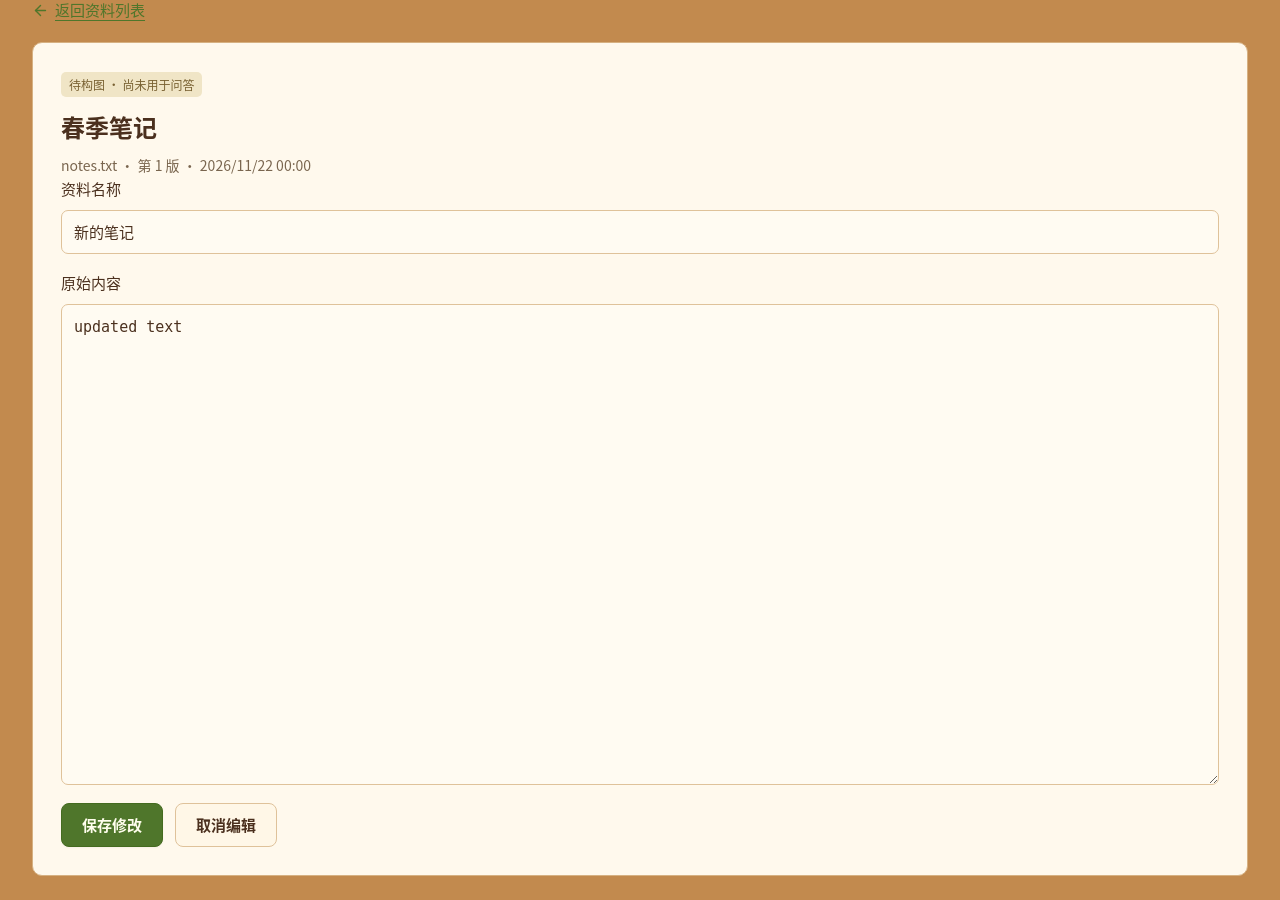
Test: uploads, opens, edits, searches and deletes a source through the API
Earlier steps of the test are not shown.
(page scrolled)
Click the button "保存修改" at point(112, 825), box [61,803,163,847]
(page scrolled)
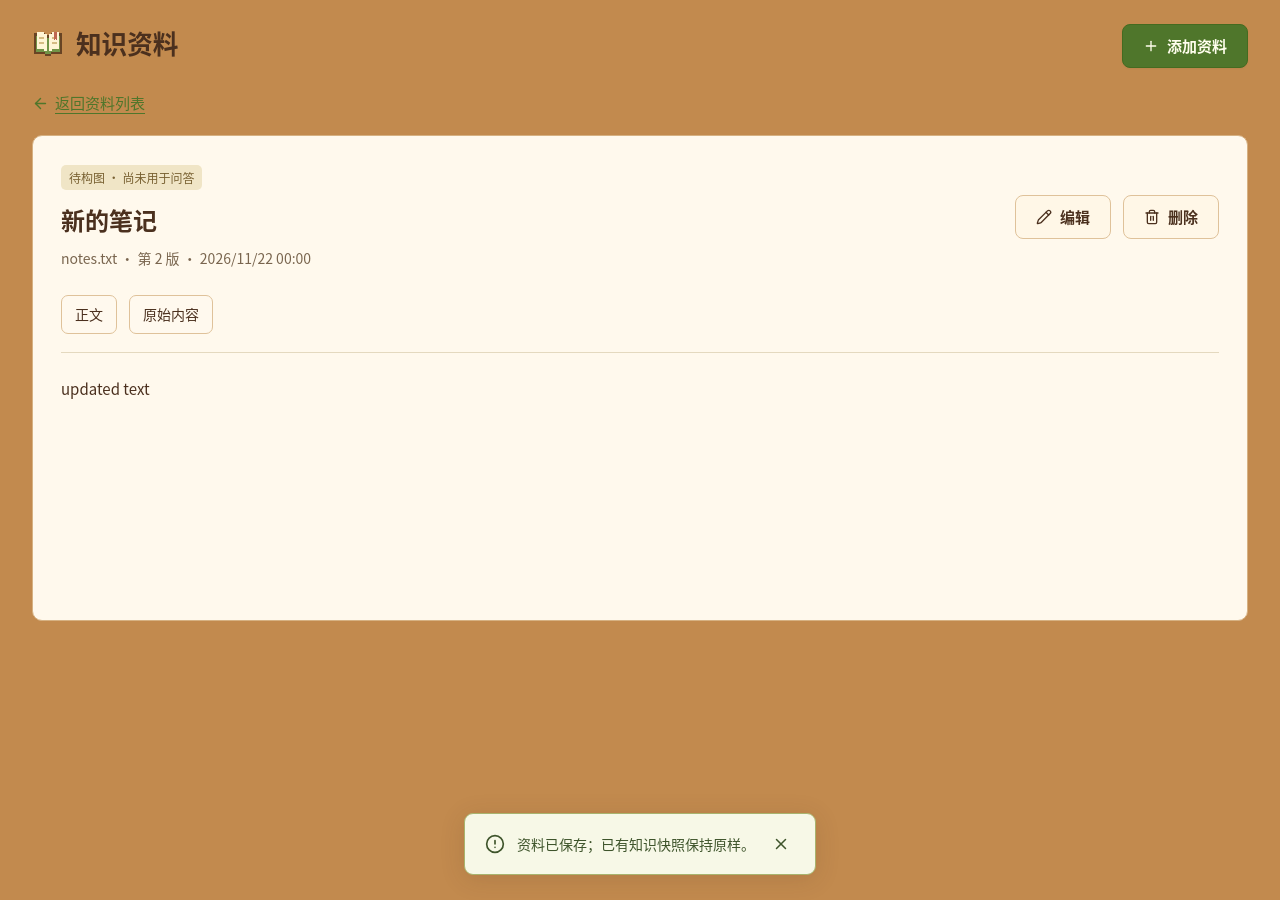
Result: the heading "新的笔记" is shown at [61,202,157,236]
Click the link "返回资料列表" at point(88, 103), box [32,92,145,114]
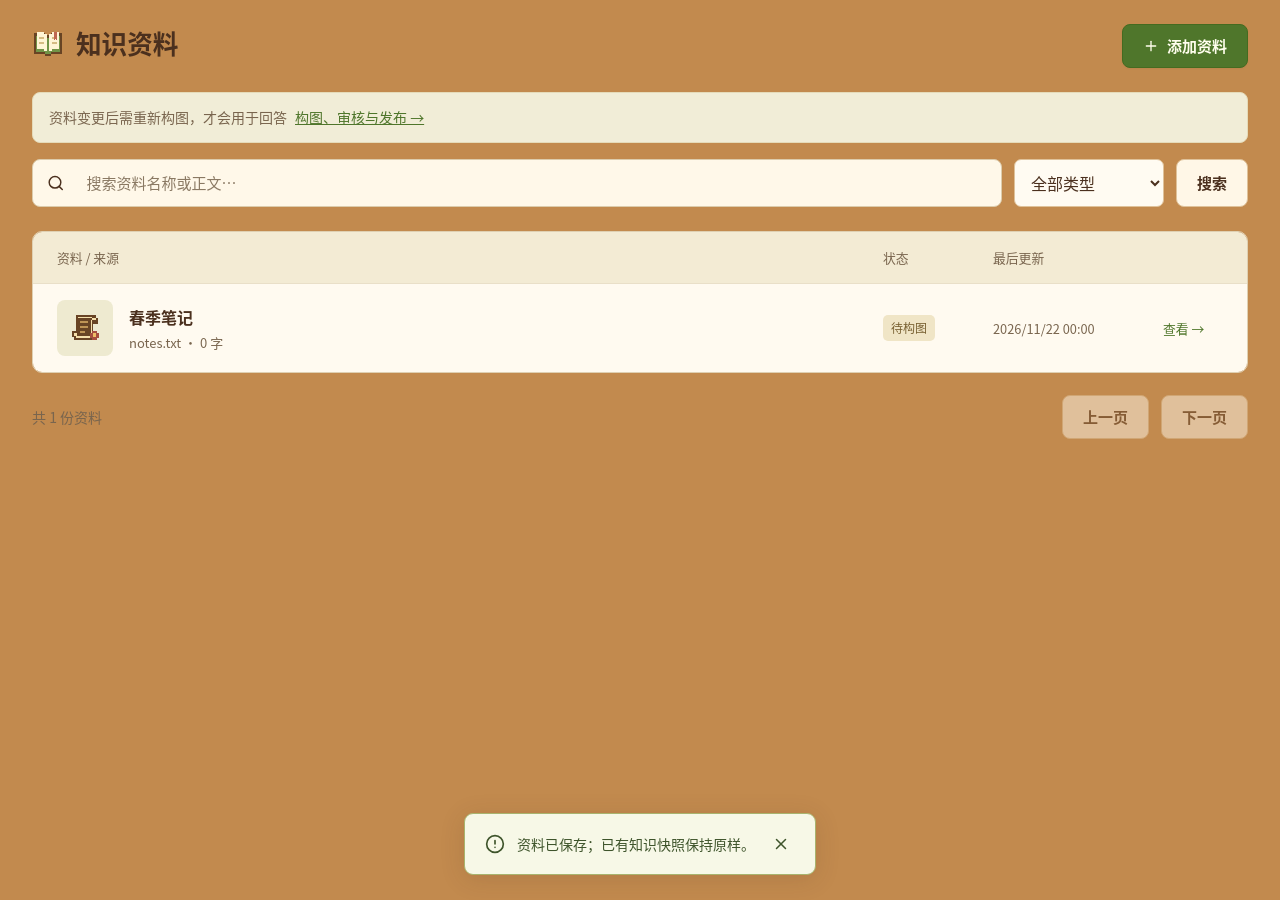
Type "updated" into the field named "搜索知识资料" at point(531, 183), box [74,162,987,204]
Click the button "搜索" at point(1212, 183), box [1176,159,1248,207]
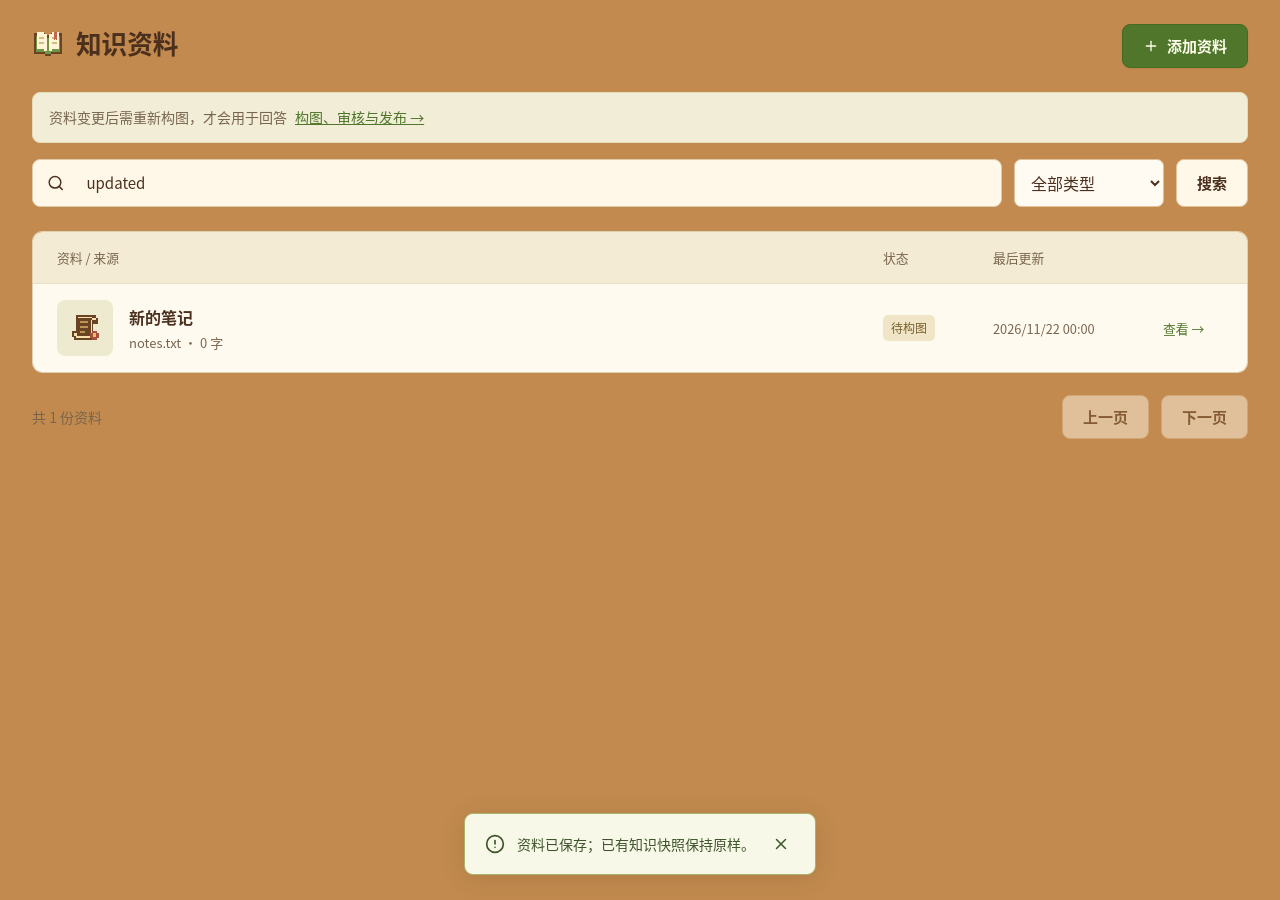
Click the link "新的笔记 notes.txt · 0 字 待构图 2026/11/22 00:00 查看 →" at point(85, 328), box [33,283,1247,372]
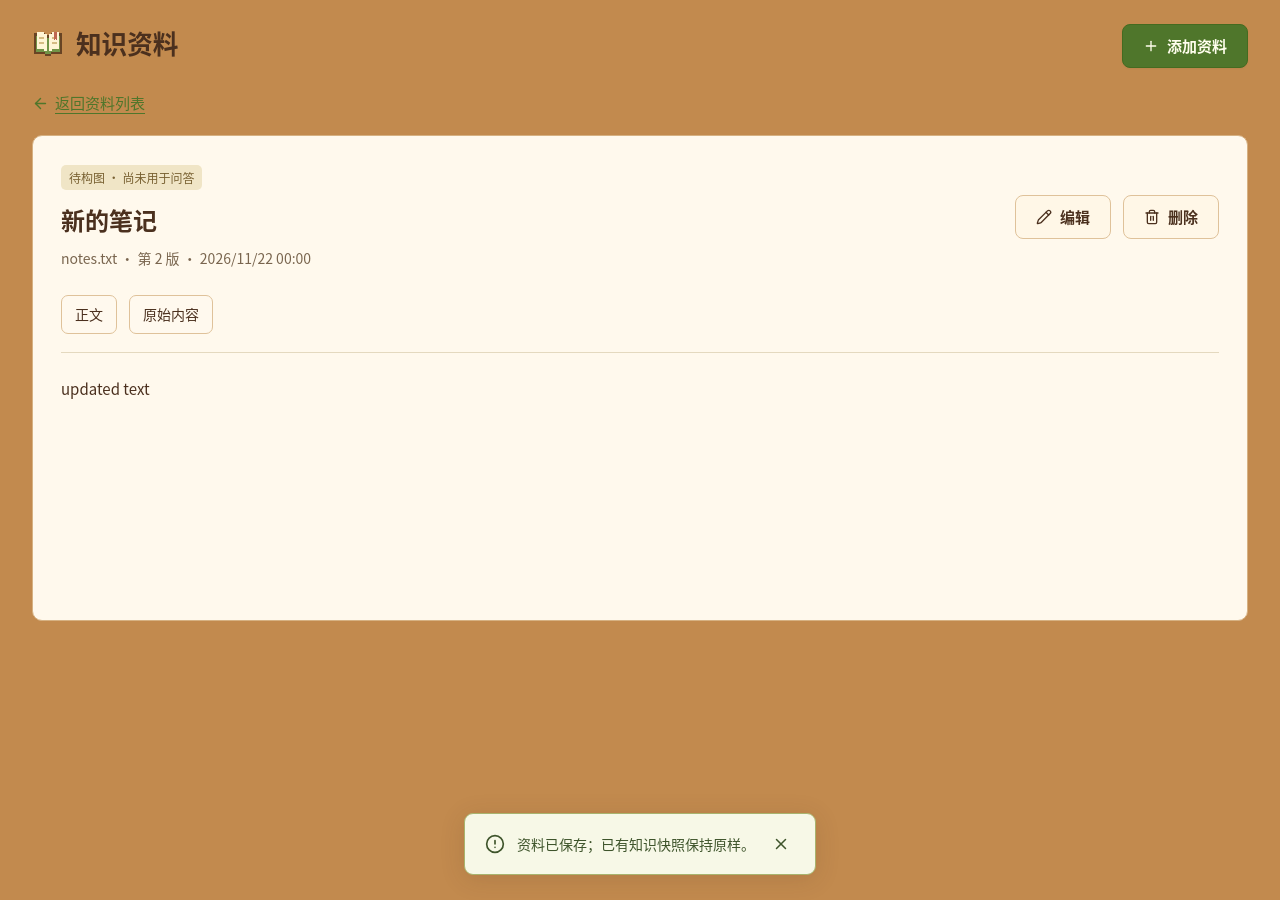
Click the button "删除" at point(1171, 217), box [1123,195,1219,239]
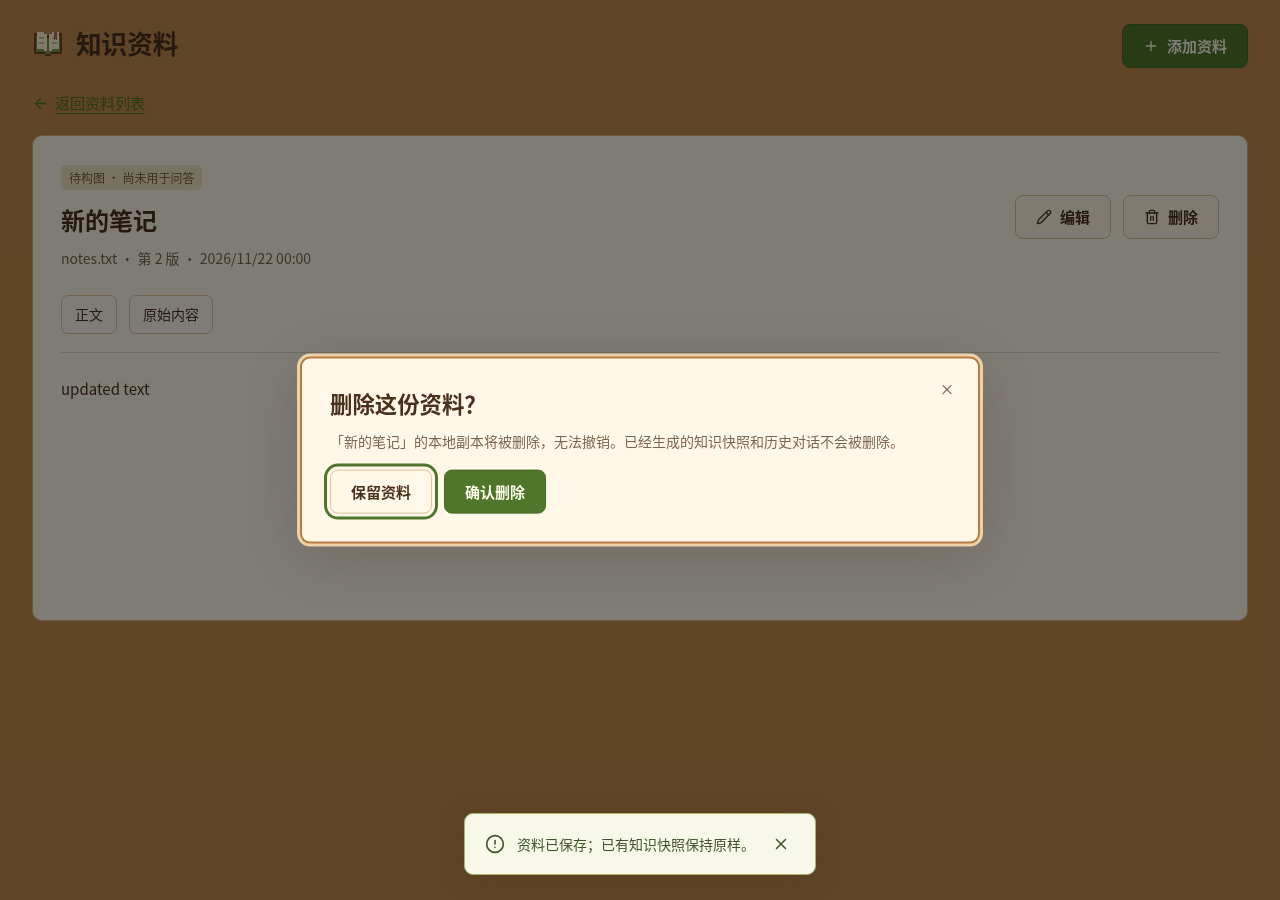
Click the button "确认删除" at point(495, 491), box [444,469,546,513]
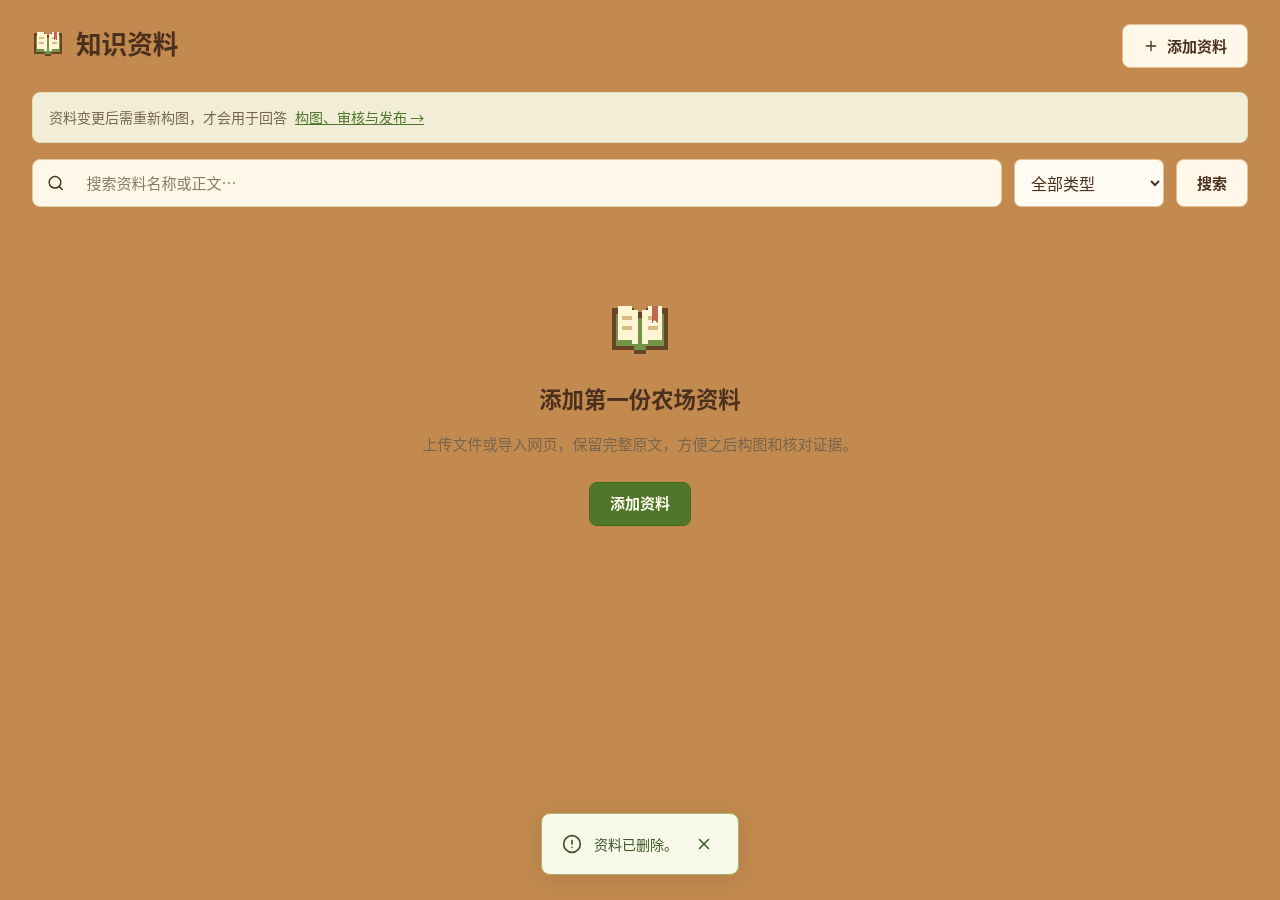
Result: the heading "添加第一份农场资料" is shown at [539,382,741,416]
